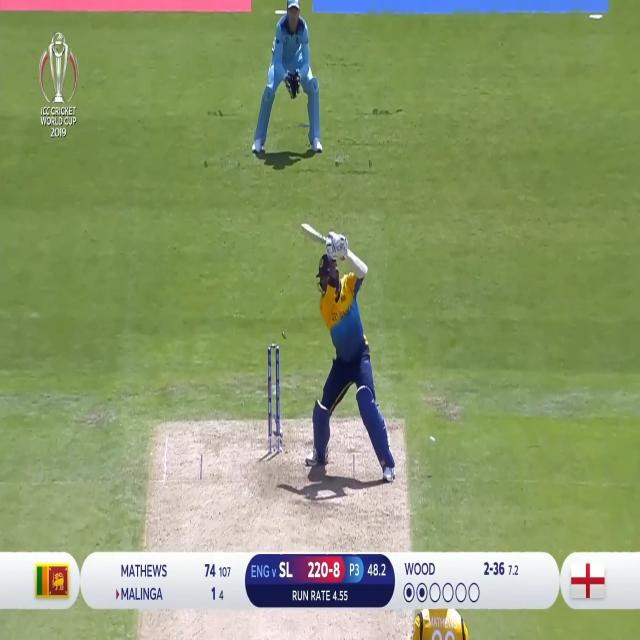ball: (425, 433, 442, 451)
